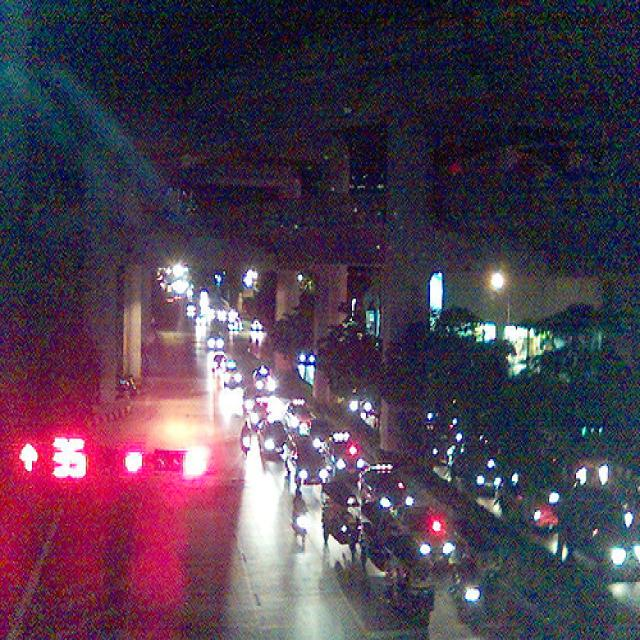motor: (297, 512, 309, 543), (240, 434, 252, 456), (361, 533, 368, 570)
